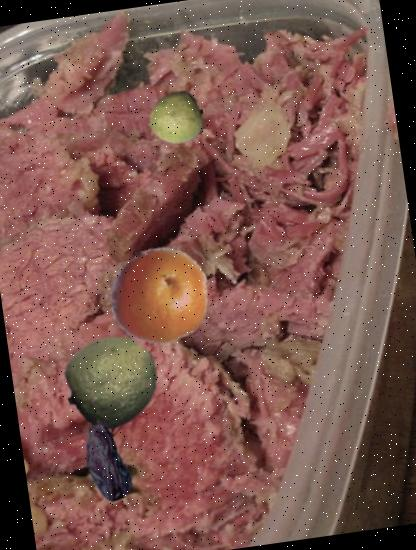Dates: (60, 416, 151, 507)
Limes: (58, 326, 168, 436), (144, 86, 208, 149)
Tangelo: (103, 238, 217, 352)
